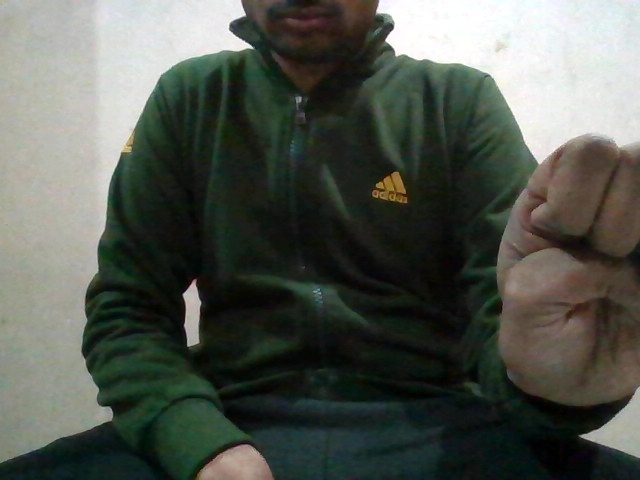E: (490, 129, 640, 401)
